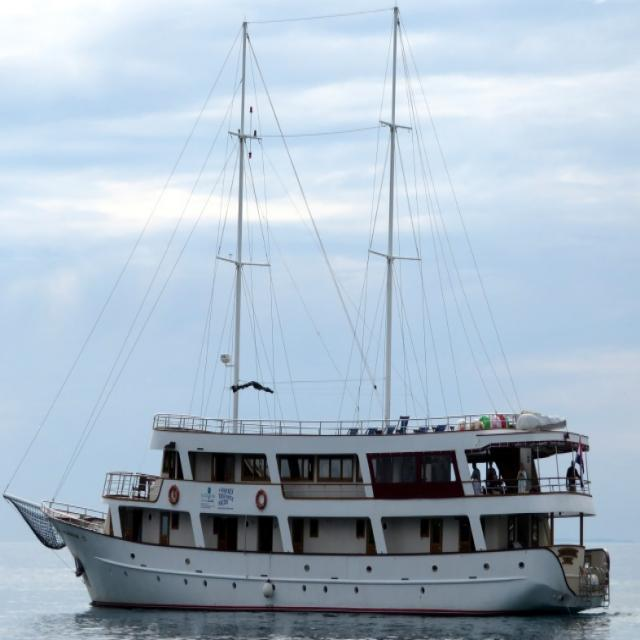cruises: (38, 402, 617, 626)
